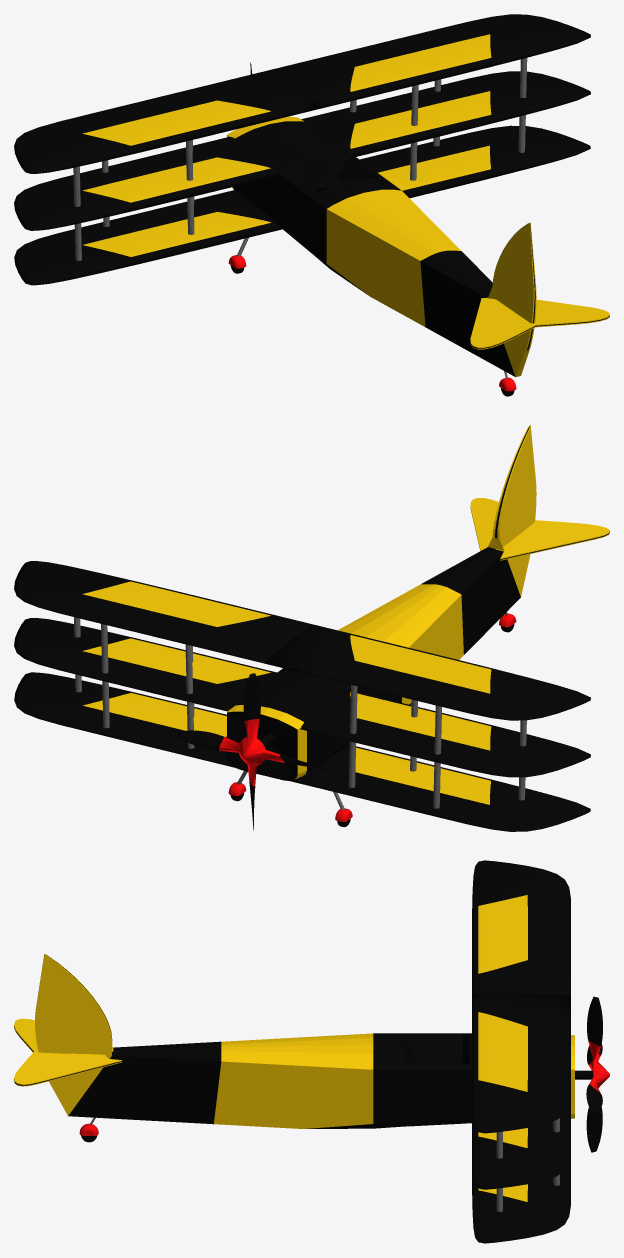
File: ucqanad.fbx
The picture shows the model from 3 angles, top to bottom: view 1: azimuth 30°, elevation 25°; view 2: azimuth 150°, elevation 25°; view 3: azimuth 270°, elevation 25°; orthographic projection.
Visible parts, largest first — view 1: Cube.029, Cube.054, Cube, Cube.016; view 2: Cube.029, Cube.054, Cube, Cube.016, Cube.050; view 3: Cube.054, Cube, Cube.016, Cube.029, Cube.050.
Boxes of the visible parts, x1,y1,x2,y2 form: Cube.029: (14,71,314,285); Cube.054: (265,14,590,198); Cube: (227,116,460,327); Cube.016: (420,222,609,396); Cube.029: (264,624,590,831); Cube.054: (14,561,312,767); Cube: (227,584,463,780); Cube.016: (421,425,609,654); Cube.050: (177,673,327,830); Cube.054: (472,993,570,1243); Cube: (214,1033,574,1128); Cube.016: (14,954,221,1142); Cube.029: (472,860,570,996); Cube.050: (575,996,609,1152).
Size of the model in its own units: 2493 by 896 by 2299.
